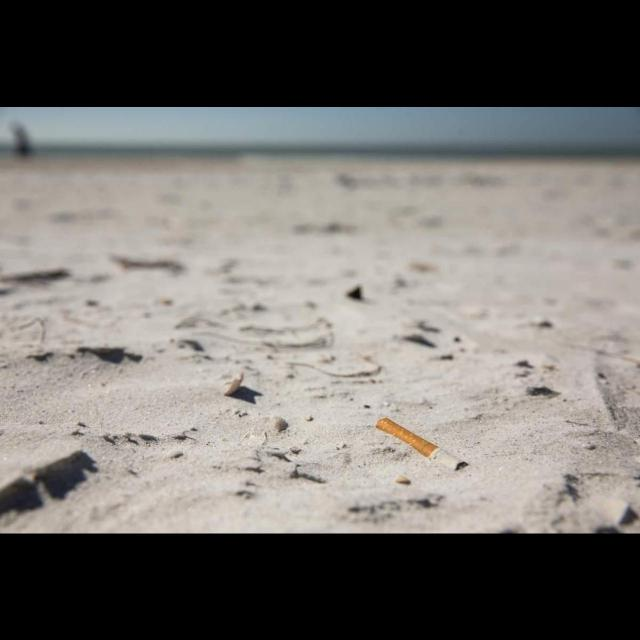cigarette: (376, 417, 469, 471)
